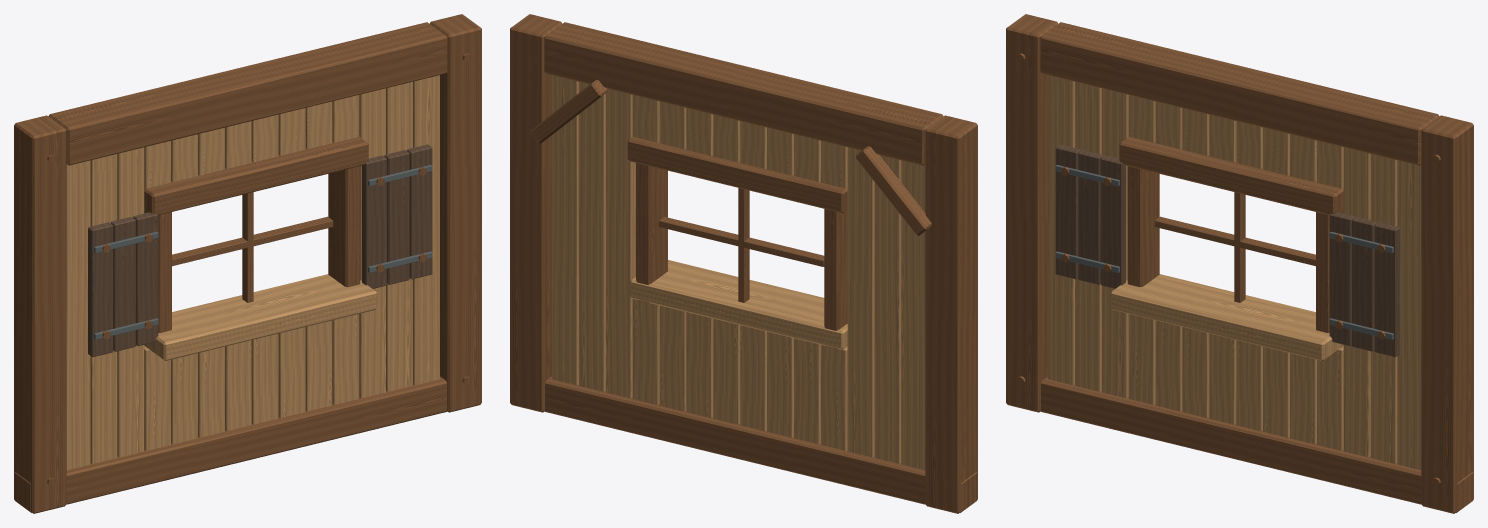
Rendered from Wall.fbx.
The picture shows the model from 3 angles, left to right: view 1: azimuth 30°, elevation 25°; view 2: azimuth 150°, elevation 25°; view 3: azimuth 330°, elevation 25°; orthographic projection.
Parts seen in each view (by area): view 1: Wall_LOD0; view 2: Wall_LOD0; view 3: Wall_LOD0.
Part boxes in pixels (x1,y1,x2,y2): Wall_LOD0: [14, 14, 481, 513]; Wall_LOD0: [510, 14, 977, 513]; Wall_LOD0: [1006, 14, 1473, 513].
Size of what is drawn, in the model's own units: 300 by 240 by 45.75.
Materials: 4 (3 with a texture image).
